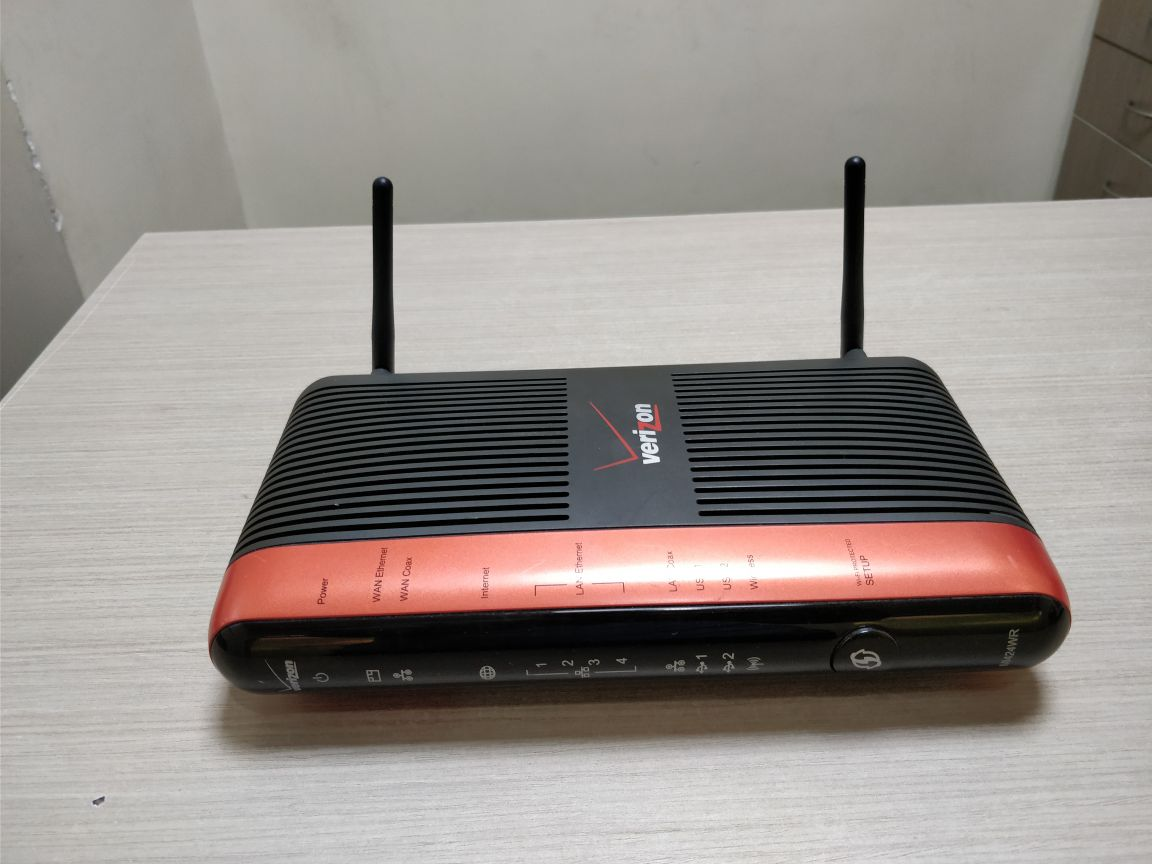Verizon Router: (203, 183, 1099, 745)
